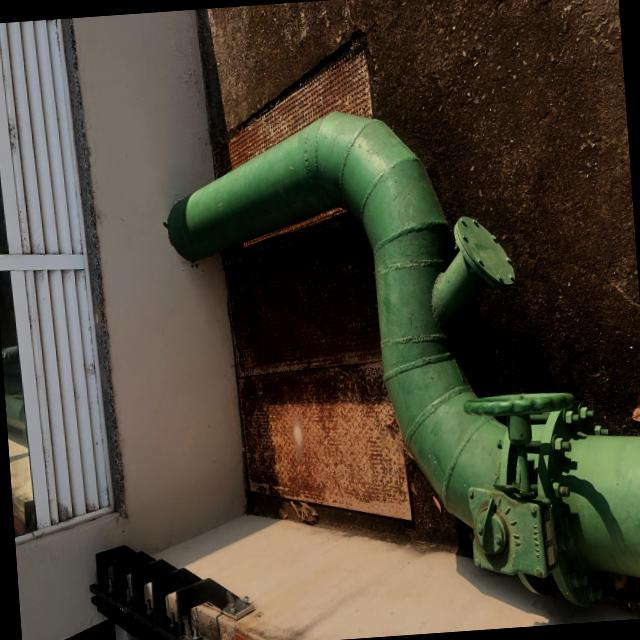gas: (385, 357, 640, 617), (358, 105, 468, 530), (165, 106, 368, 261)
